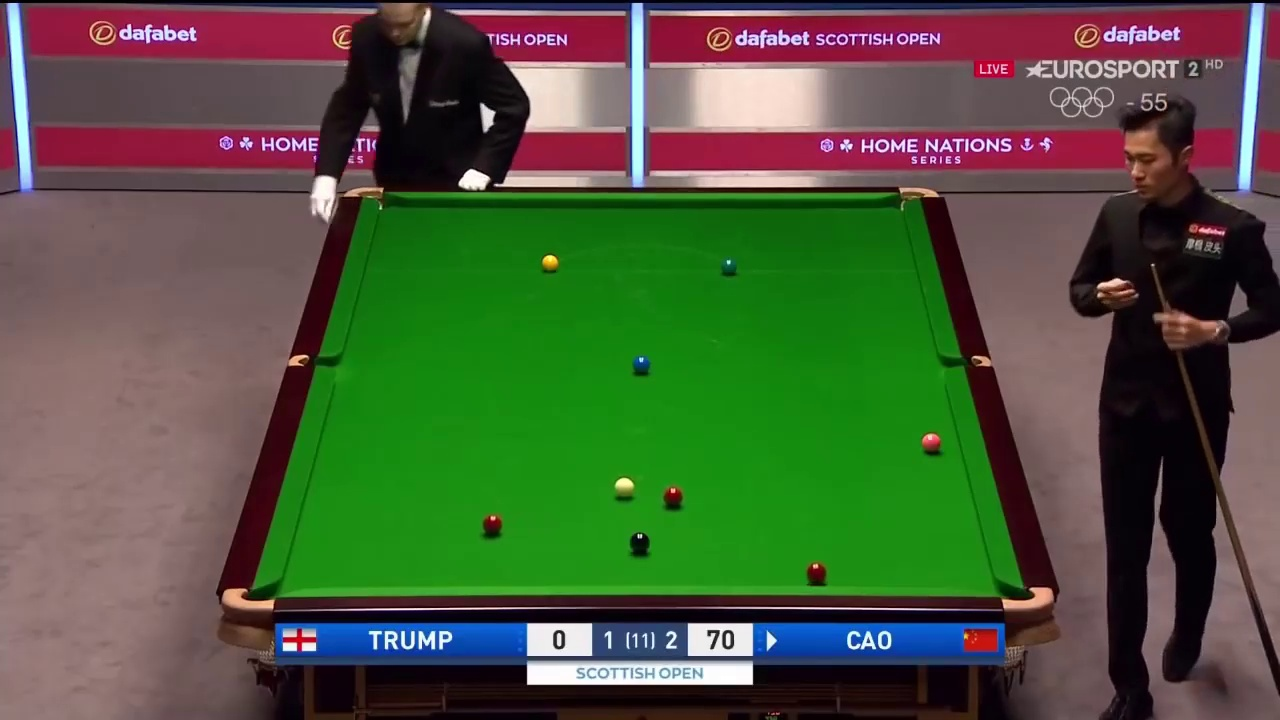ball: (613, 475, 637, 498), (806, 558, 828, 583), (662, 481, 684, 506), (919, 429, 942, 452), (482, 516, 505, 535), (630, 354, 650, 374), (630, 532, 650, 551), (540, 254, 558, 272), (721, 255, 738, 272)
